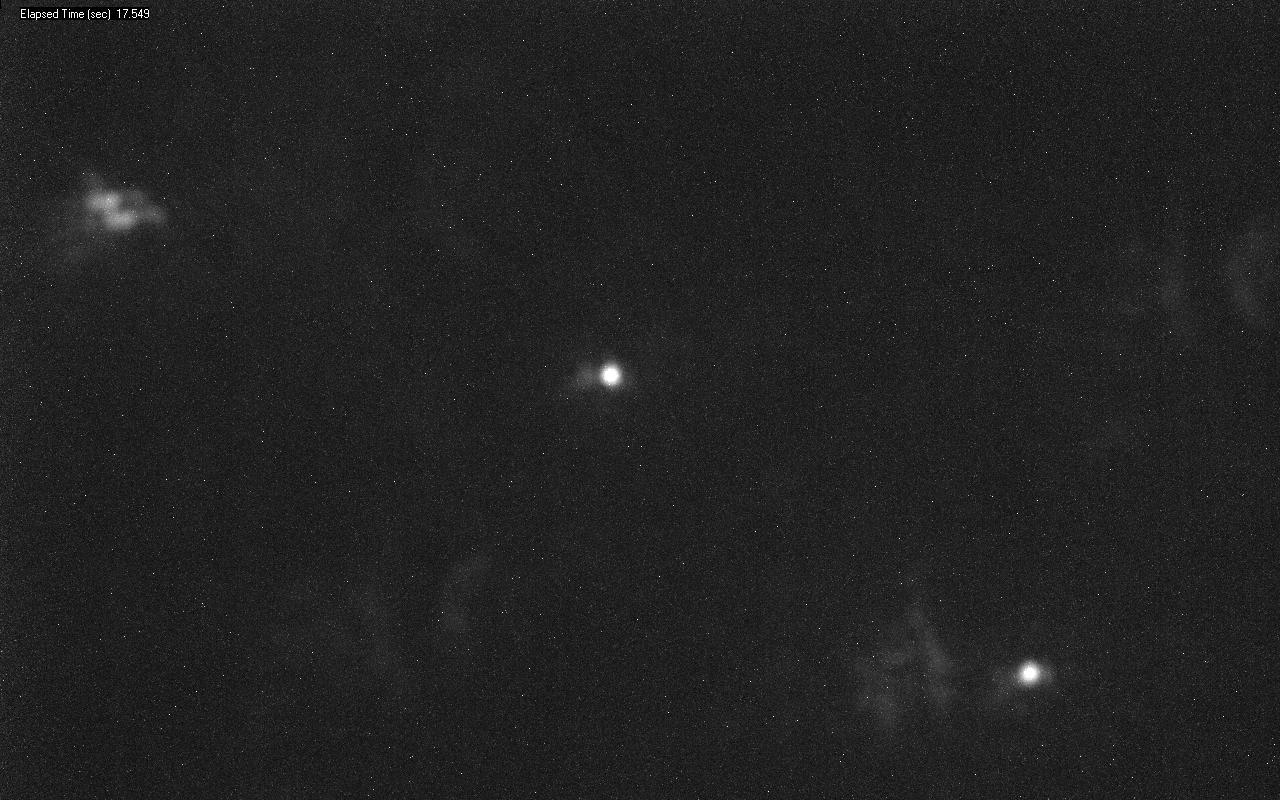Bead: (599, 364, 622, 386), (1019, 662, 1039, 684)
